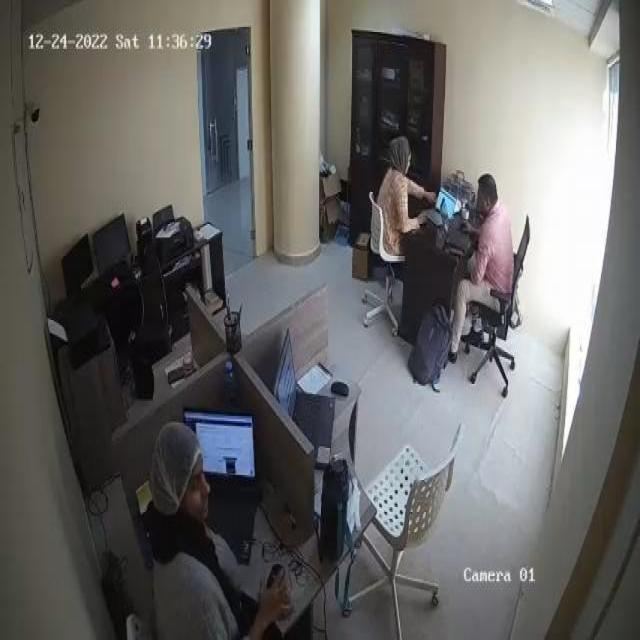bare_hand: (243, 576, 300, 637), (460, 216, 477, 239), (413, 212, 432, 231), (422, 187, 438, 207)
